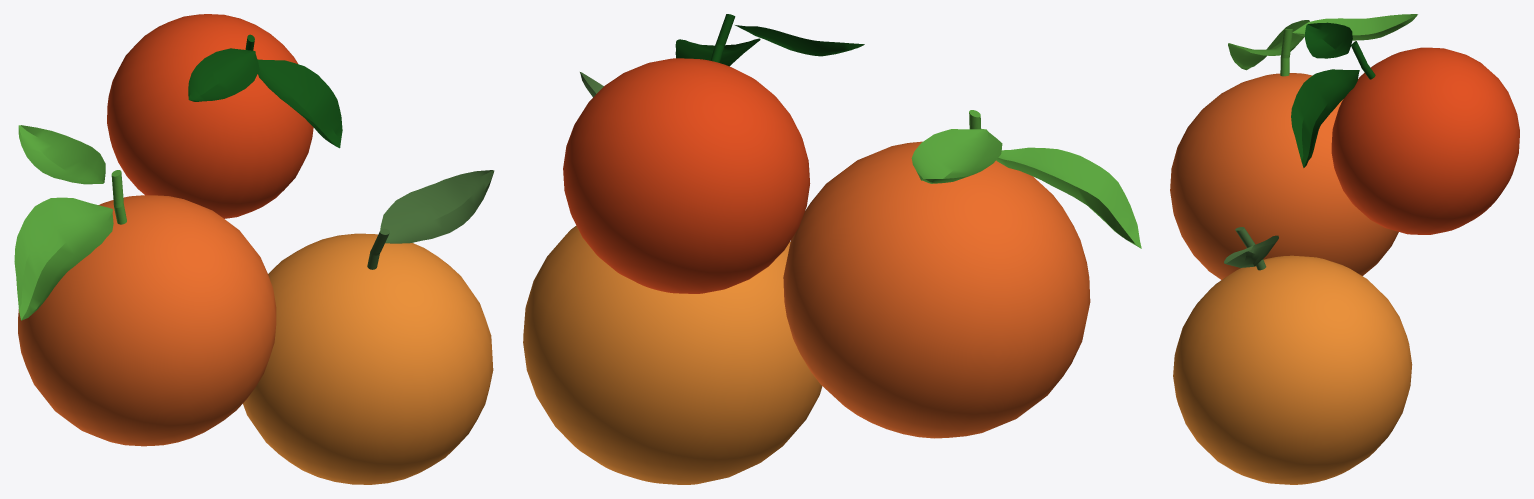
The picture shows the model from 3 angles, left to right: view 1: azimuth 30°, elevation 25°; view 2: azimuth 150°, elevation 25°; view 3: azimuth 270°, elevation 25°; orthographic projection. The views are drawn at different scales.
Parts seen in each view (by area): view 1: Sphere.002, Sphere, Sphere.001, Plane, Plane.006, Plane.003, Plane.001, Plane.004, Cylinder; view 2: Sphere, Sphere.002, Sphere.001, Plane, Plane.001, Plane.004, Plane.003; view 3: Sphere.002, Sphere.001, Sphere, Plane.003, Plane.001, Plane.004, Plane, Plane.006, Cylinder.
Part boxes in pixels (left/top/right/bottom): Sphere.002: left=243, top=233, right=493, bottom=484; Sphere: left=18, top=195, right=276, bottom=446; Sphere.001: left=107, top=14, right=313, bottom=218; Plane: left=14, top=197, right=113, bottom=320; Plane.006: left=380, top=170, right=494, bottom=243; Plane.003: left=257, top=59, right=342, bottom=148; Plane.001: left=18, top=125, right=105, bottom=184; Plane.004: left=188, top=48, right=259, bottom=101; Cylinder: left=111, top=170, right=126, bottom=224; Sphere: left=783, top=141, right=1090, bottom=438; Sphere.002: left=523, top=225, right=822, bottom=484; Sphere.001: left=563, top=58, right=810, bottom=293; Plane: left=996, top=147, right=1141, bottom=248; Plane.001: left=911, top=129, right=1002, bottom=183; Plane.004: left=735, top=25, right=864, bottom=56; Plane.003: left=675, top=38, right=760, bottom=66; Sphere.002: left=1173, top=255, right=1412, bottom=484; Sphere.001: left=1331, top=47, right=1519, bottom=234; Sphere: left=1170, top=73, right=1398, bottom=279; Plane.003: left=1291, top=69, right=1359, bottom=167; Plane.001: left=1292, top=14, right=1417, bottom=40; Plane.004: left=1305, top=22, right=1352, bottom=58; Plane: left=1228, top=20, right=1309, bottom=70; Plane.006: left=1224, top=235, right=1278, bottom=267; Cylinder: left=1280, top=29, right=1292, bottom=76.
Size of the model in its own units: 15.37 by 13.17 by 10.54.
